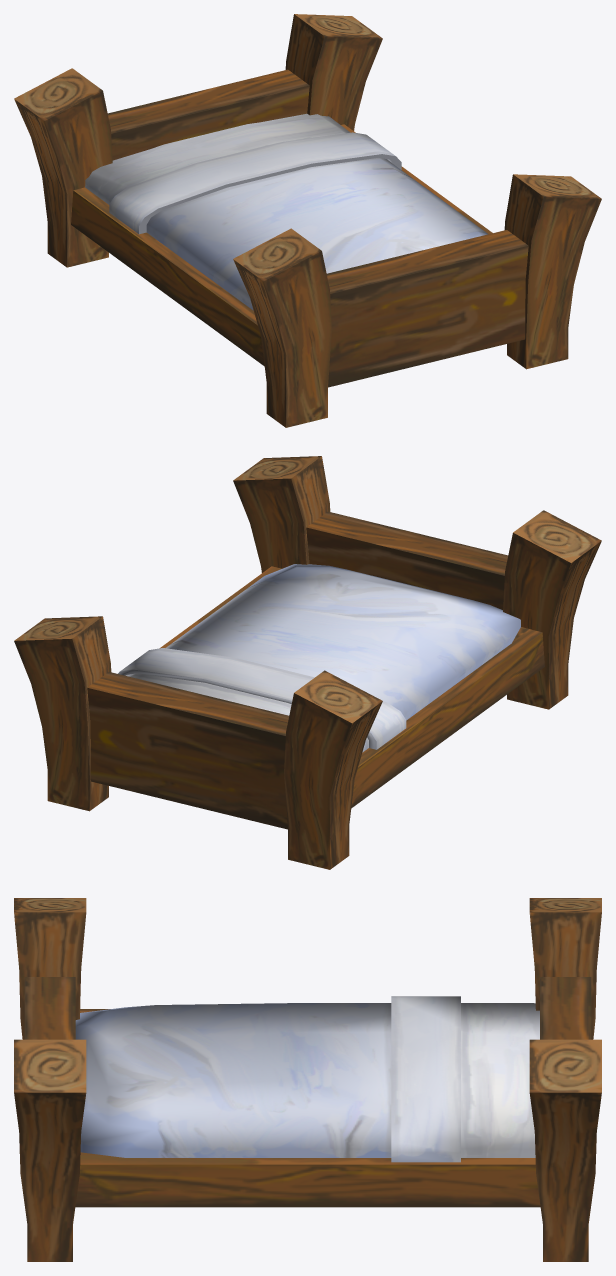
Rendered from e_asset_bed_crappy.fbx.
3 views of the same model, one above another, from view 1: azimuth 30°, elevation 25°; view 2: azimuth 150°, elevation 25°; view 3: azimuth 270°, elevation 25° (orthographic). The views are drawn at different scales.
Parts seen in each view (by area): view 1: polySurface953; view 2: polySurface953; view 3: polySurface953.
Boxes of the visible parts, left/top/right/bottom form: polySurface953: left=14, top=14, right=601, bottom=427; polySurface953: left=14, top=456, right=601, bottom=869; polySurface953: left=14, top=898, right=601, bottom=1261.
Bounding box in the file's own units: 1.17 × 0.5767 × 1.5.
